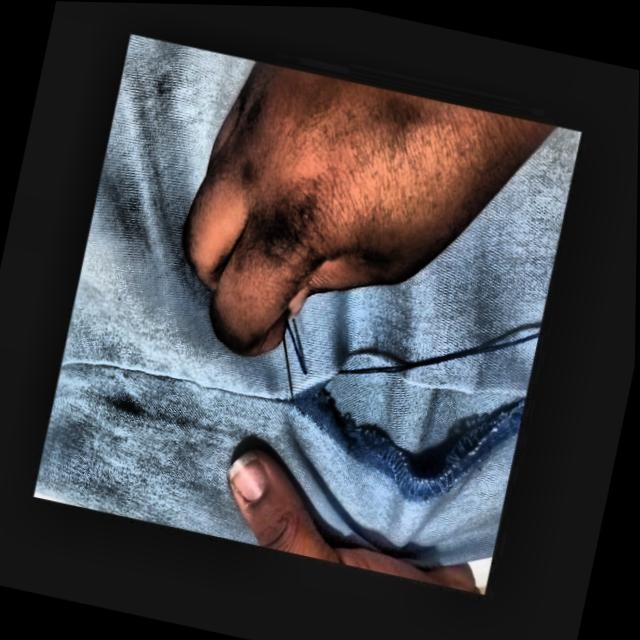seam: (263, 289, 548, 537)
